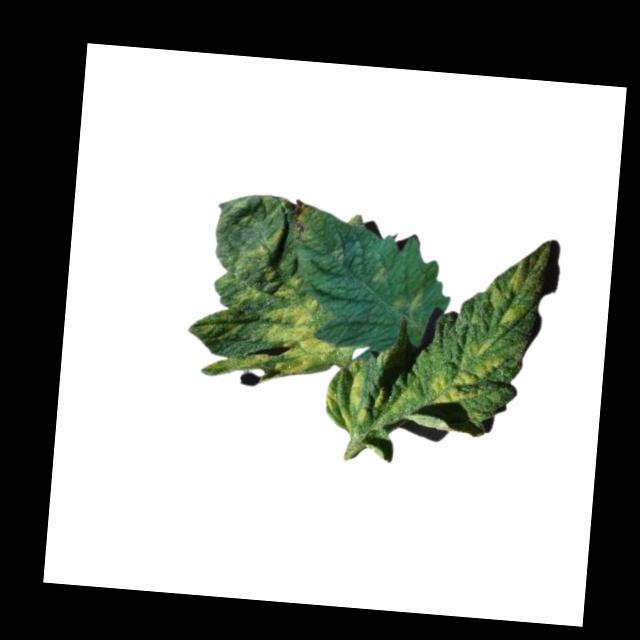Leaf_Mold: (258, 274, 358, 382), (429, 353, 505, 411), (323, 365, 370, 431), (488, 261, 527, 328), (394, 284, 426, 315)
